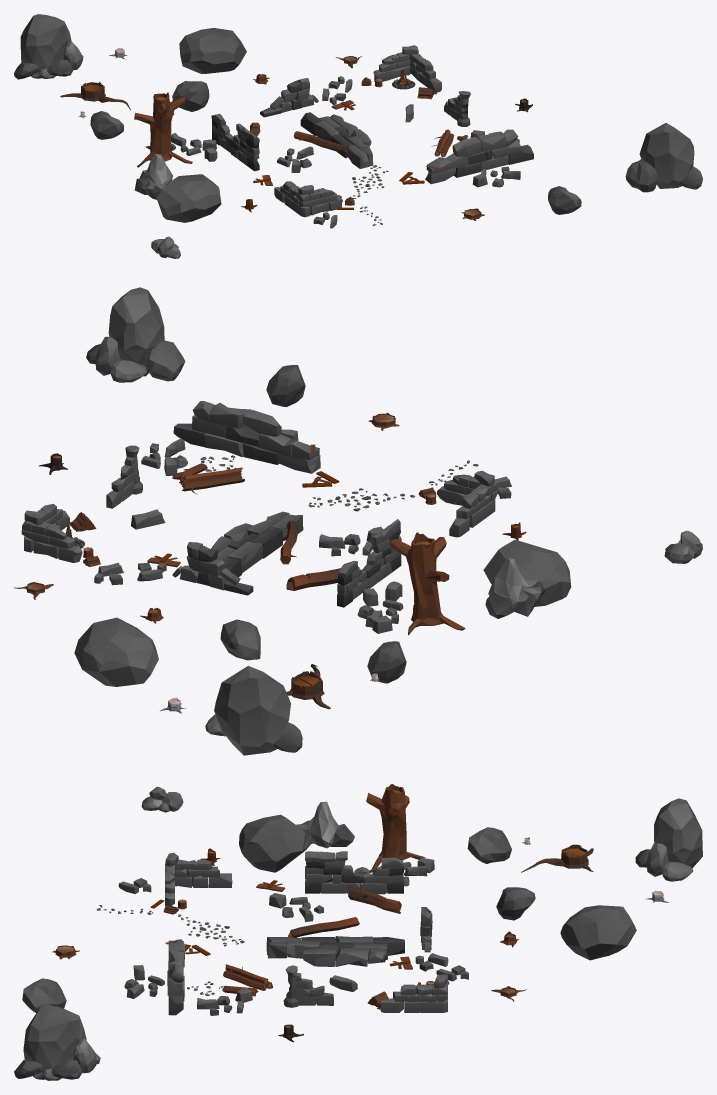
Rendered from CentralRuins.gltf.
The picture shows the model from 3 angles, top to bottom: view 1: azimuth 30°, elevation 25°; view 2: azimuth 150°, elevation 25°; view 3: azimuth 270°, elevation 25°; orthographic projection. The views are drawn at different scales.
Visible parts, largest first — view 1: SM_RockPilesBigA2, SM_RuinedWallB, SM_RockPilesBigA, SM_RockBigA19, SM_RockBigA18, SM_RuinedWallB2, SM_TreeLogOakStanding, SM_RuinedWallFCorner3, SM_RuinedWallFCorner, SM_RuinedWallA, SM_RuinedWallC, SM_RockPilesBigD (+11 smaller); view 2: SM_RockPilesBigA2, SM_RuinedWallB, SM_RockPilesBigA, SM_RockBigA19, SM_TreeLogOakStanding, SM_RuinedWallB2, SM_RockBigA18, SM_RuinedWallA, SM_RuinedWallFCorner, SM_RuinedWallFCorner3, SM_RockPilesBigD, SM_RuinedWallC (+12 smaller); view 3: SM_RockPilesBigA, SM_RockPilesBigA2, SM_RuinedWallB2, SM_RuinedWallA, SM_RockBigA19, SM_RockBigA18, SM_TreeLogOakStanding, SM_RuinedWallFCorner, SM_RuinedWallFCorner3, SM_RockPilesBigD, SM_RuinedWallB, SM_RuinedWallD (+12 smaller).
Boxes of the visible parts, box(x1,y1,x2,y2) form: SM_RockPilesBigA2: box(14, 14, 83, 79); SM_RuinedWallB: box(425, 129, 533, 184); SM_RockPilesBigA: box(639, 123, 702, 189); SM_RockBigA19: box(179, 28, 246, 73); SM_RockBigA18: box(156, 174, 221, 222); SM_RuinedWallB2: box(300, 112, 373, 168); SM_TreeLogOakStanding: box(134, 92, 192, 167); SM_RuinedWallFCorner3: box(373, 45, 441, 92); SM_RuinedWallFCorner: box(274, 181, 342, 217); SM_RuinedWallA: box(211, 114, 259, 171); SM_RuinedWallC: box(260, 78, 318, 117); SM_RockPilesBigD: box(134, 153, 172, 199); SM_RockPilesBigA2: box(205, 665, 302, 755); SM_RuinedWallB: box(173, 401, 320, 473); SM_RockPilesBigA: box(86, 287, 164, 382); SM_RockBigA19: box(74, 617, 158, 686); SM_TreeLogOakStanding: box(390, 532, 465, 635); SM_RuinedWallB2: box(211, 511, 303, 577); SM_RockBigA18: box(483, 539, 571, 606); SM_RuinedWallA: box(337, 519, 401, 607); SM_RuinedWallFCorner: box(437, 470, 497, 537); SM_RuinedWallFCorner3: box(21, 503, 82, 562); SM_RockPilesBigD: box(485, 557, 545, 618); SM_RuinedWallC: box(172, 542, 253, 595); SM_RockPilesBigA: box(14, 1005, 100, 1080); SM_RockPilesBigA2: box(635, 798, 702, 881); SM_RuinedWallB2: box(266, 936, 404, 966); SM_RuinedWallA: box(305, 851, 403, 894); SM_RockBigA19: box(560, 905, 636, 960); SM_RockBigA18: box(239, 814, 305, 872); SM_TreeLogOakStanding: box(366, 784, 424, 872); SM_RuinedWallFCorner: box(165, 853, 232, 905); SM_RuinedWallFCorner3: box(380, 974, 447, 1012); SM_RockPilesBigD: box(296, 801, 354, 850); SM_RuinedWallB: box(167, 939, 184, 1015); SM_RuinedWallD: box(283, 965, 333, 1007).
Bounding box in the file's own units: 47.98 × 7.52 × 49.9.
Materials: 2 (2 with a texture image).
